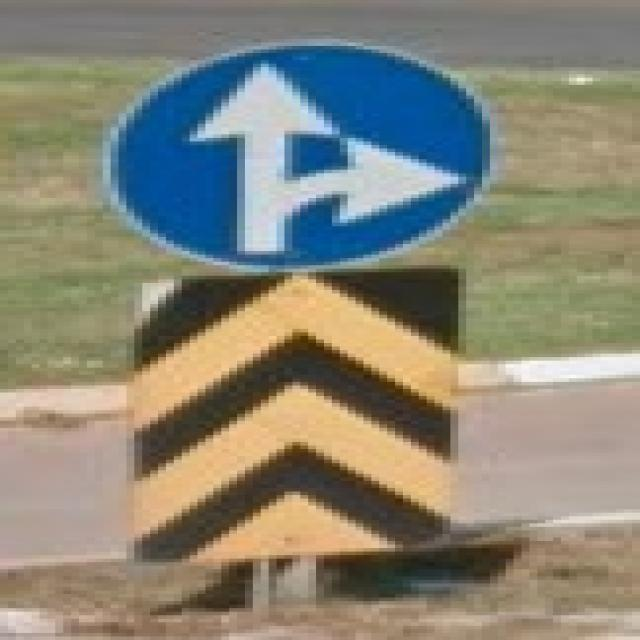Straight or Right: (100, 44, 487, 263)
